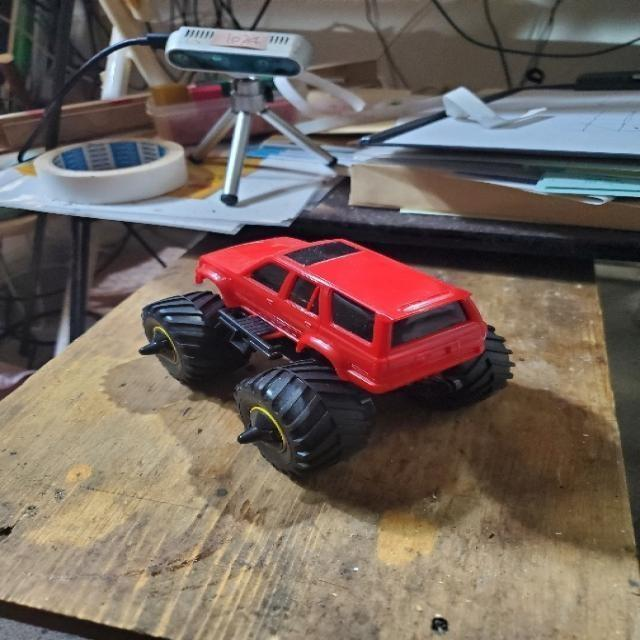Car: (118, 206, 546, 507)
